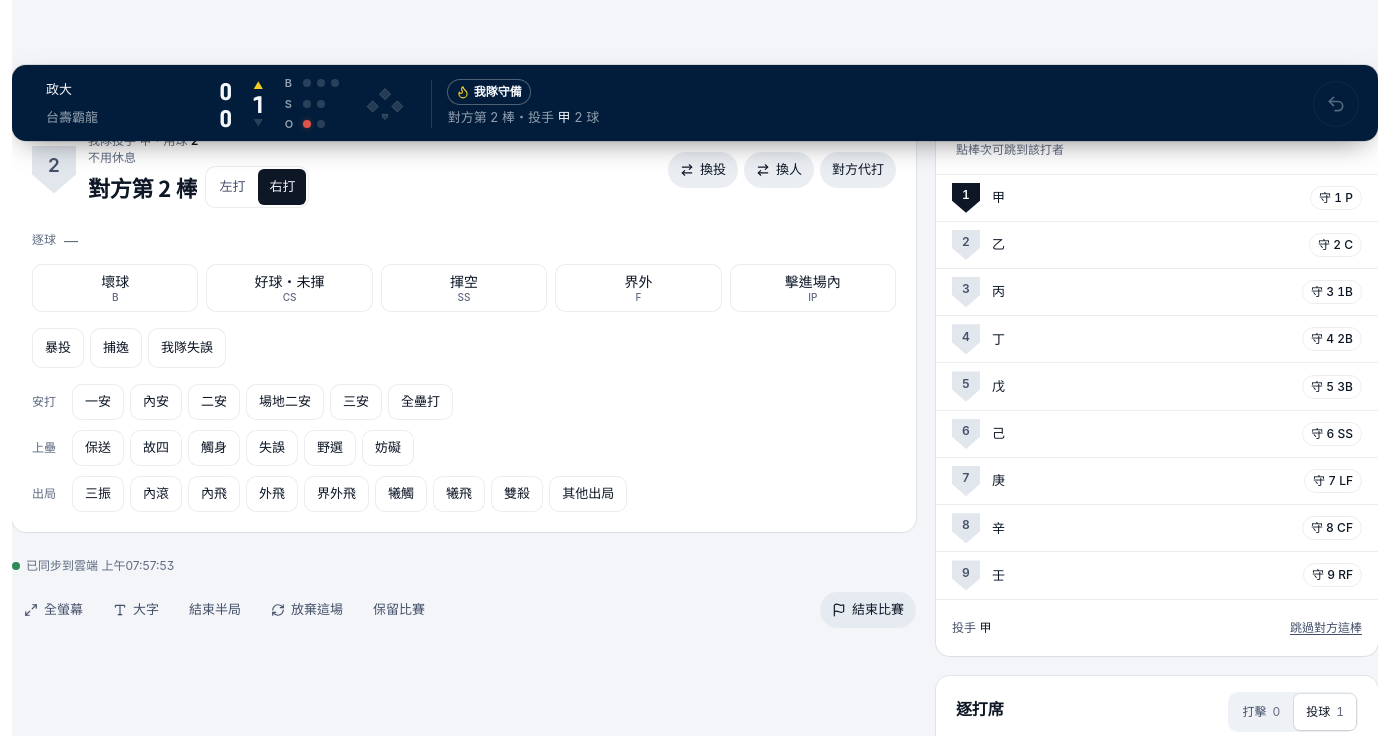
Test: autosave while recording (cloud mode) › syncs a ball mid plate appearance, rewrites the rows only when they change, and says when it failed
Expected: the text "已同步到雲端" is shown, top-left (26, 558), bottom-right (174, 573)
a ball: the plate appearance goes on, the progress is synced, the rows are not rewritten
Step 1. Click the button "壞球 B" → (115, 288), box top-left (32, 264), bottom-right (198, 312)
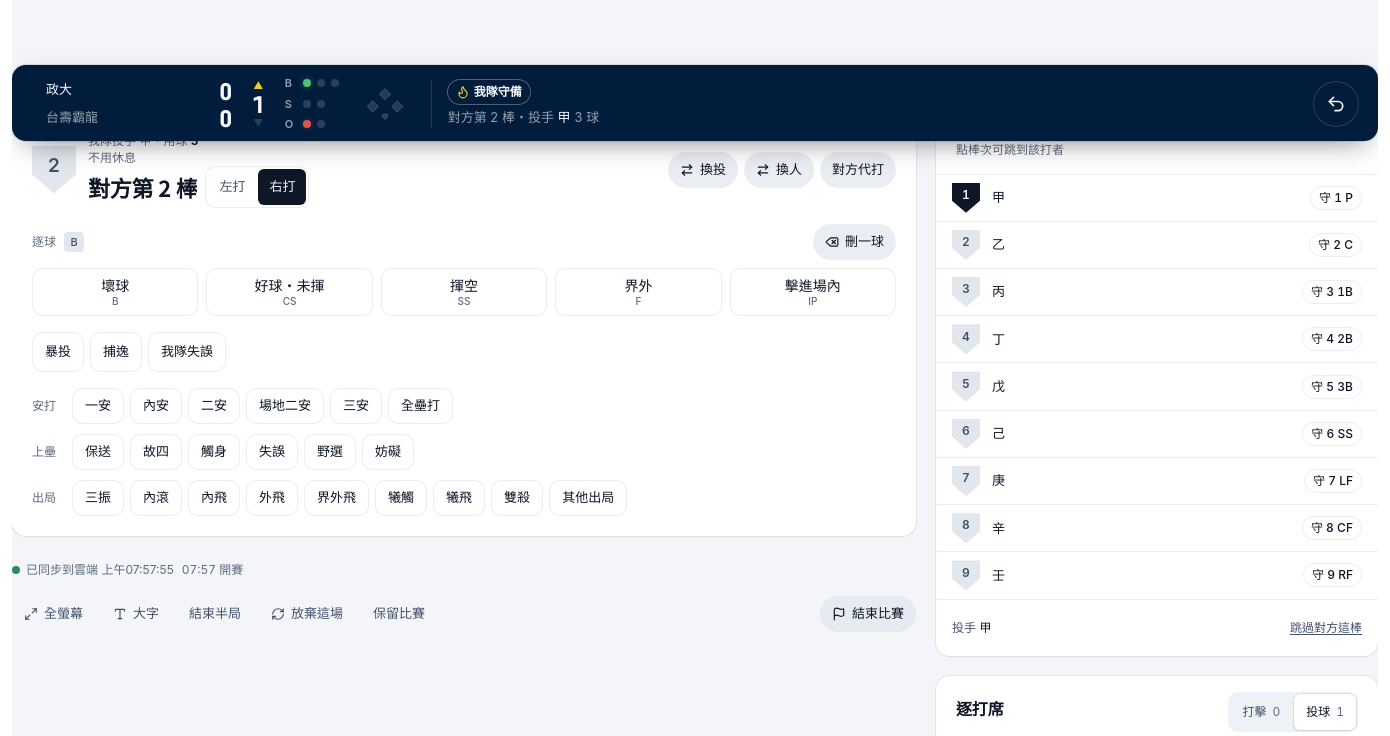
Expected: the text "尚未同步…" is shown, top-left (12, 561), bottom-right (174, 579)
Expected: the text "已同步到雲端" is shown, top-left (26, 562), bottom-right (174, 577)
Step 2. Click the button "壞球 B" → (115, 292), box top-left (32, 268), bottom-right (198, 316)
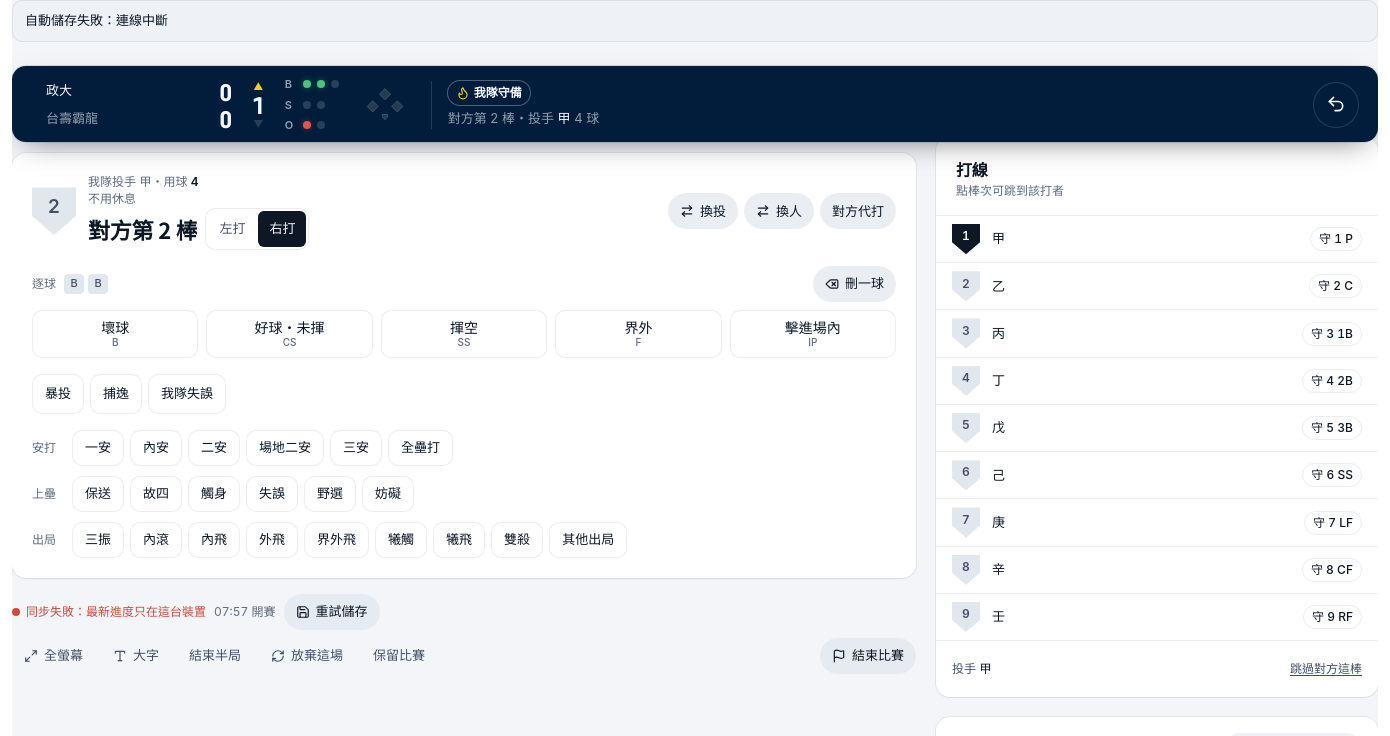
Result: the text "同步失敗：最新進度只在這台裝置" is shown at top-left (12, 602), bottom-right (206, 620)
Step 3. Click the button "重試儲存" → (332, 612), box top-left (284, 594), bottom-right (380, 630)
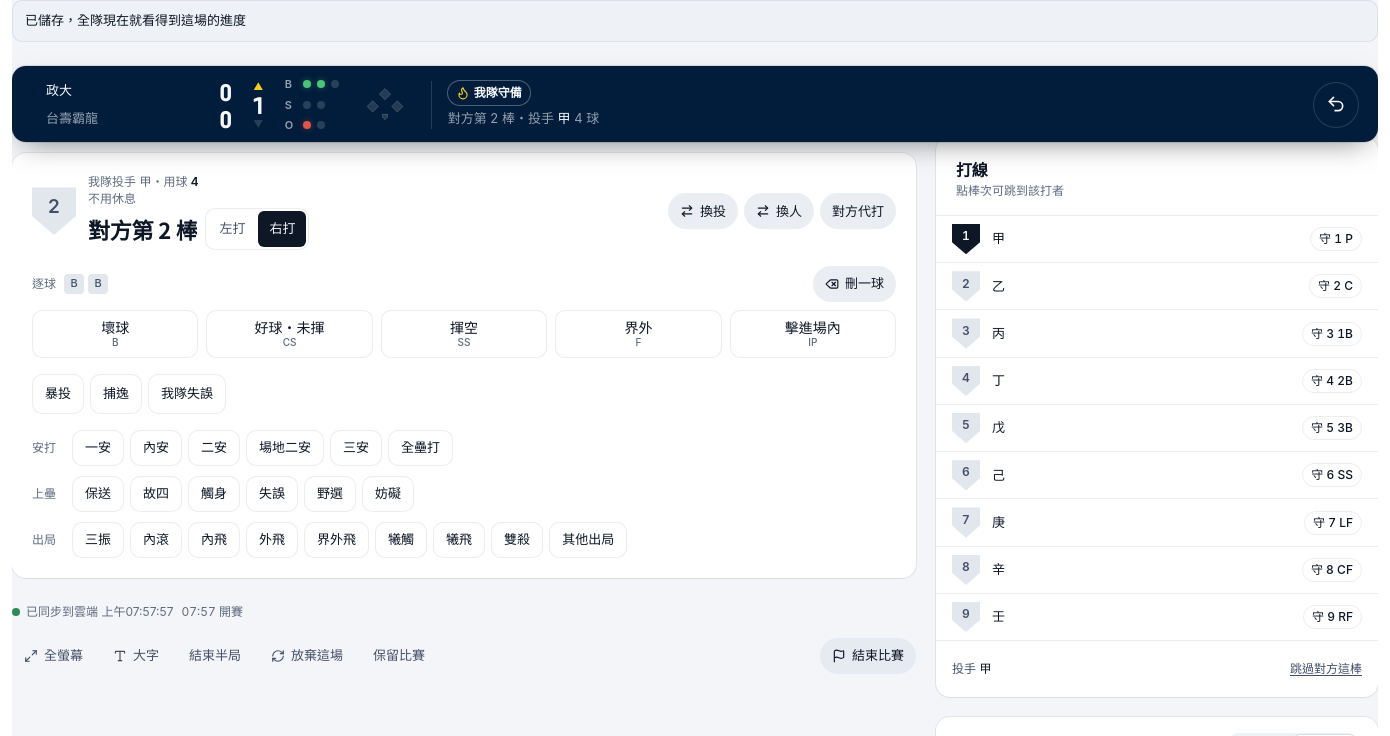
Result: the text "已同步到雲端" is shown at top-left (26, 604), bottom-right (173, 618)
